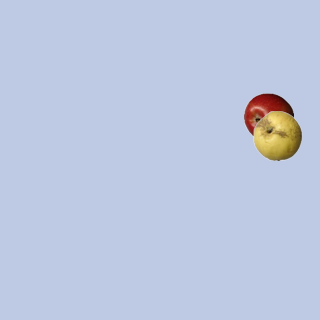Apple Braeburn: (243, 92, 293, 142)
Apple Golden 1: (252, 110, 302, 160)
